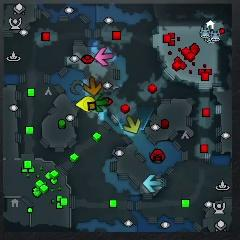p4: (77, 97, 96, 112)
x1: (96, 47, 114, 67)
x2: (122, 116, 141, 134)
x3: (143, 175, 161, 193)
x4: (93, 94, 108, 111)
x5: (84, 77, 101, 96)
